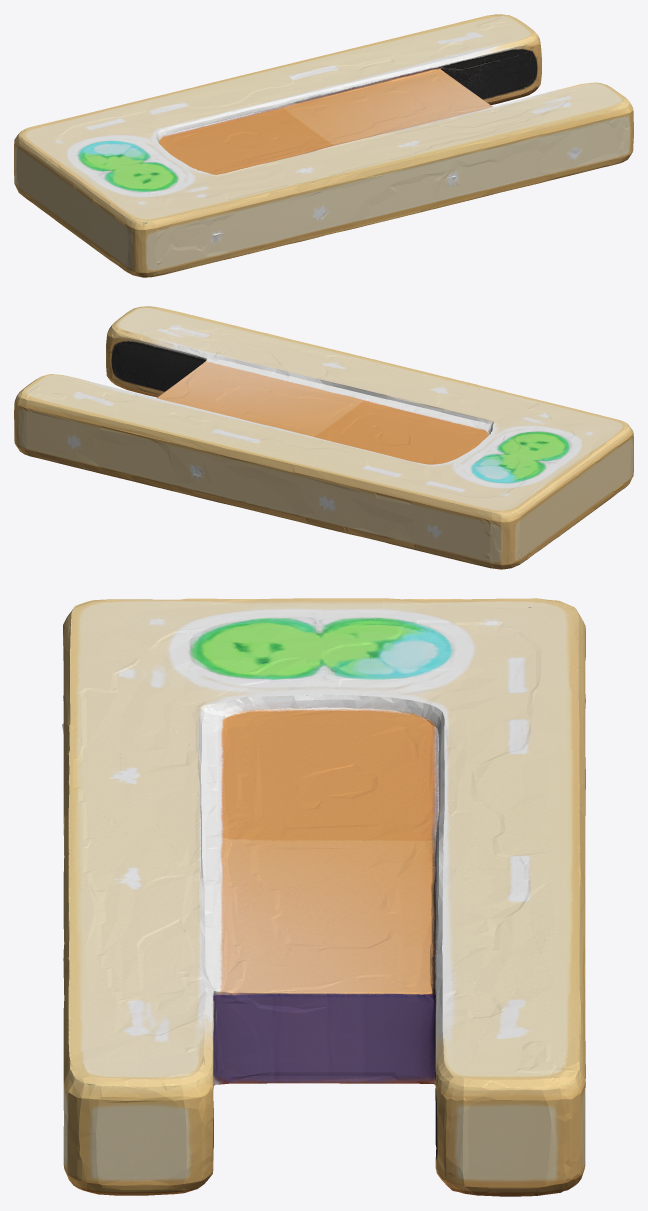
Rendered from ui_booster_banner.glb.
3 renders of one model, top to bottom at view 1: azimuth 30°, elevation 25°; view 2: azimuth 150°, elevation 25°; view 3: azimuth 270°, elevation 25°, orthographic. The views are drawn at different scales.
Visible parts, largest first — view 1: world; view 2: world; view 3: world.
Part boxes in pixels (left/top/right/bottom): world: left=14, top=14, right=633, bottom=277; world: left=14, top=306, right=633, bottom=569; world: left=62, top=598, right=585, bottom=1196.
Size of the model in its own units: 1 by 0.1115 by 0.4518.
Materials: 1 (1 with a texture image).
